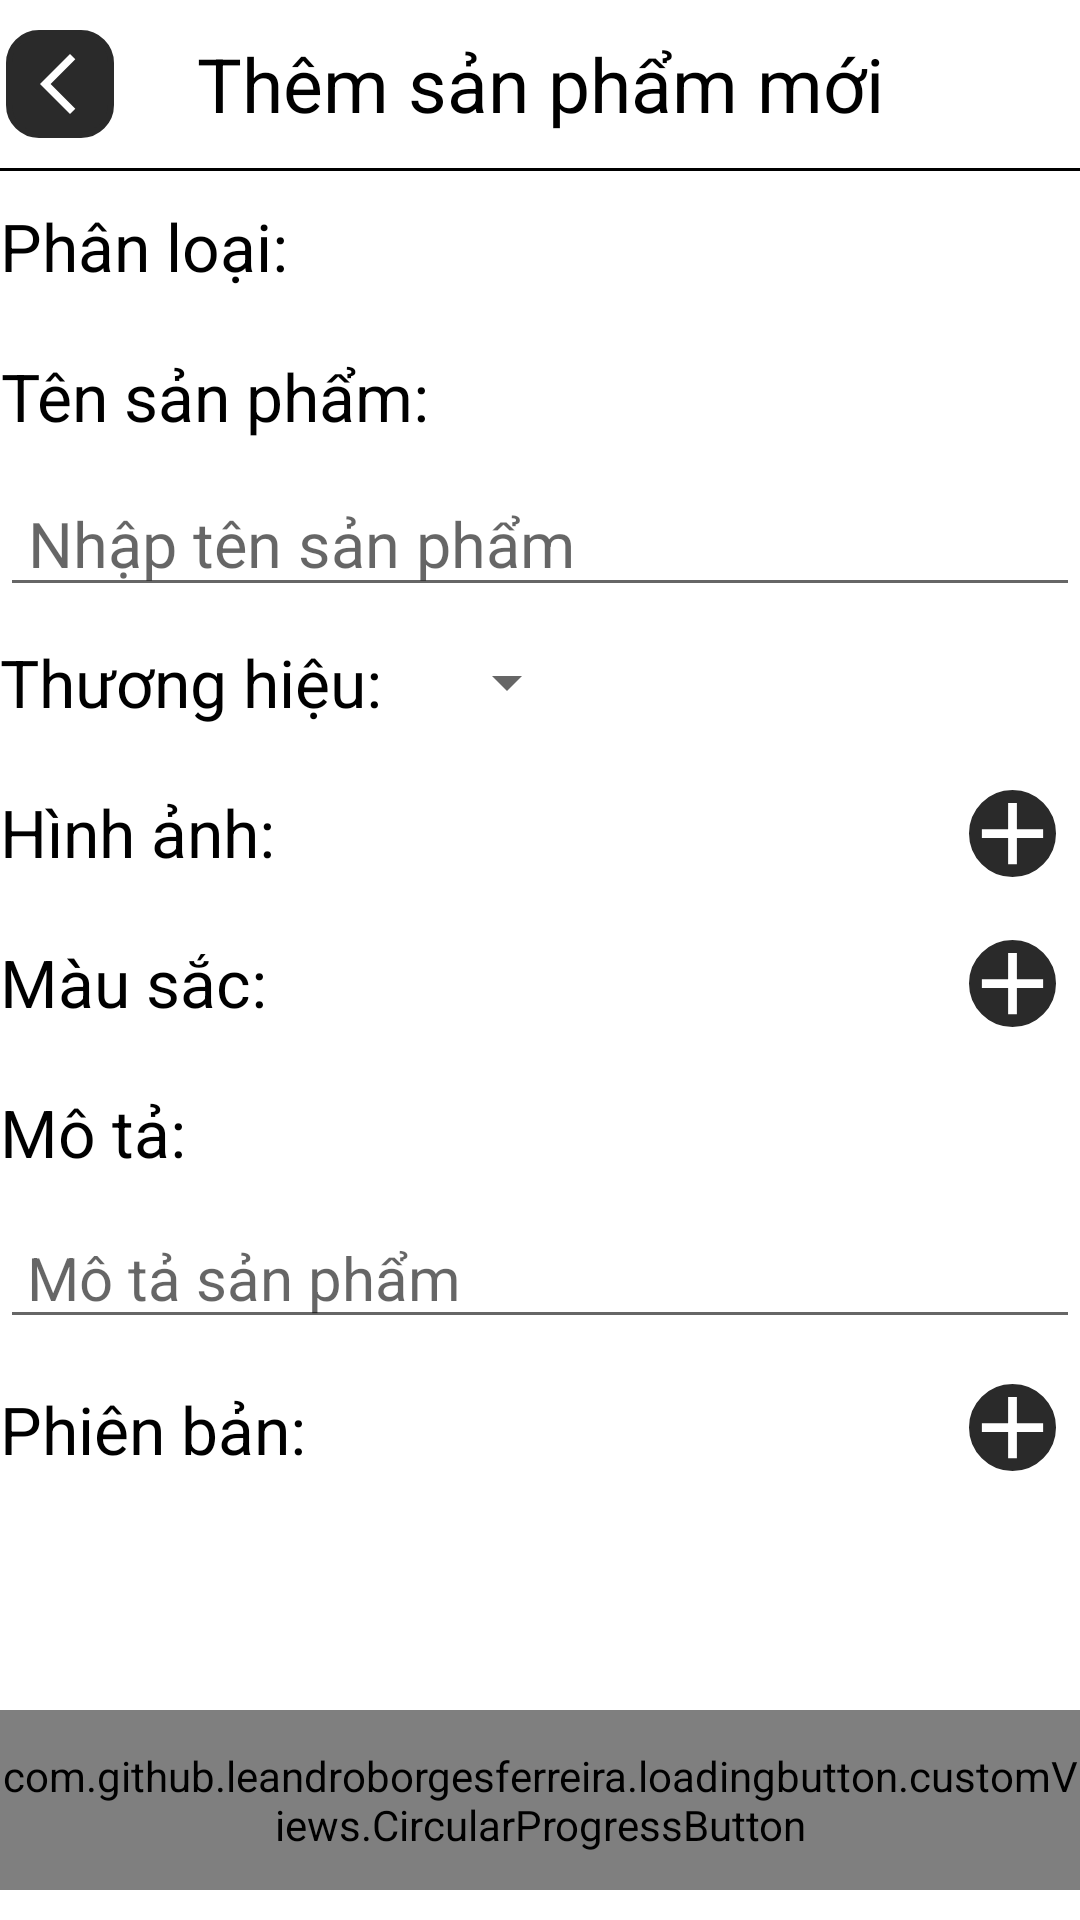

Icon click points for this 1080 × 1920 phone screenshot, format (x,y):
add: (1012,833), (1012,983), (1012,1427)
back: (57,84)
